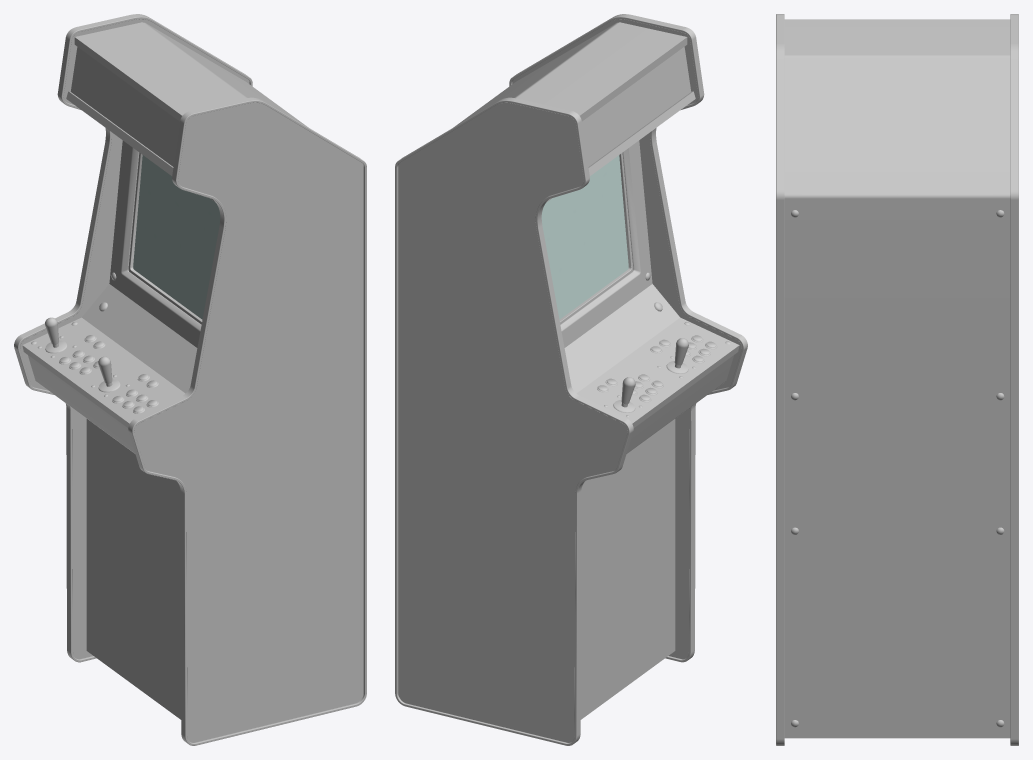
Rendered from SM_ArcadeMachine_01a.fbx.
3 views of the same model, side by side, from view 1: azimuth 30°, elevation 25°; view 2: azimuth 150°, elevation 25°; view 3: azimuth 270°, elevation 25° (orthographic). The views are drawn at different scales.
Parts seen in each view (by area): view 1: SM_ArcadeMachine_01a_LOD0; view 2: SM_ArcadeMachine_01a_LOD0; view 3: SM_ArcadeMachine_01a_LOD0.
Boxes of the visible parts, x1,y1,x2,y2 form: SM_ArcadeMachine_01a_LOD0: (14,14,366,745); SM_ArcadeMachine_01a_LOD0: (395,14,747,745); SM_ArcadeMachine_01a_LOD0: (776,14,1018,745).
Size of the model in its own units: 70.46 by 61.6 by 181.
3 materials, 1 textured.
